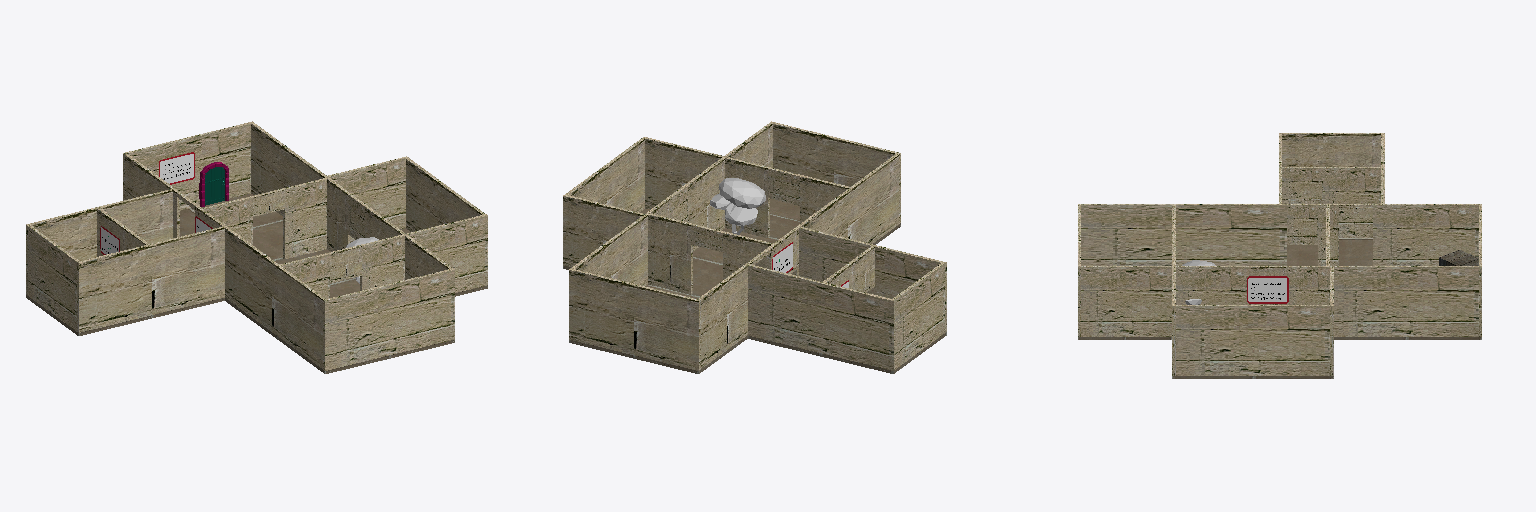
3 views of the same model, side by side, from view 1: azimuth 30°, elevation 25°; view 2: azimuth 150°, elevation 25°; view 3: azimuth 270°, elevation 25° (orthographic).
Visible parts, largest first — view 1: Cube.013, Cube.004, Cube.011, Cube.012, Cube.003, Cube.014, Cube.006, Cube.020, Cube.009, Cube.005, Cube.008, Cube.018 (+16 smaller); view 2: Cube.012, Cube.003, Cube.004, Cube.011, Cube.013, Cube.014, Cube.010, Cube.005, Cube.020, Cube.009, Cube.006, Cube.008 (+14 smaller); view 3: Cube.011, Cube.009, Cube.008, Cube.007, Cube.010, Cube.014, Cube.022, Cube.016, Cube.015, Cube.001, Cube.025, Cube.026 (+2 smaller).
Boxes of the visible parts, x1,y1,x2,y2 form: Cube.013: [77, 226, 224, 332]; Cube.004: [323, 268, 454, 370]; Cube.011: [221, 224, 325, 368]; Cube.012: [26, 189, 172, 295]; Cube.003: [123, 121, 253, 210]; Cube.014: [28, 225, 78, 330]; Cube.006: [407, 214, 487, 292]; Cube.020: [283, 178, 326, 258]; Cube.009: [406, 158, 484, 231]; Cube.005: [328, 156, 408, 240]; Cube.008: [251, 123, 327, 215]; Cube.018: [360, 234, 404, 290]; Cube.012: [748, 264, 894, 370]; Cube.003: [569, 268, 700, 370]; Cube.004: [770, 121, 900, 223]; Cube.011: [793, 154, 898, 275]; Cube.013: [799, 227, 946, 332]; Cube.014: [893, 263, 944, 369]; Cube.010: [698, 261, 752, 368]; Cube.005: [563, 194, 643, 267]; Cube.020: [648, 213, 692, 294]; Cube.009: [566, 138, 644, 212]; Cube.006: [643, 137, 722, 209]; Cube.008: [572, 214, 647, 285]; Cube.011: [1081, 204, 1286, 265]; Cube.009: [1176, 305, 1329, 375]; Cube.008: [1330, 266, 1478, 336]; Cube.007: [1081, 266, 1175, 336]; Cube.010: [1373, 204, 1478, 265]; Cube.014: [1282, 133, 1380, 166]; Cube.022: [1323, 167, 1380, 237]; Cube.016: [1176, 266, 1250, 304]; Cube.015: [1286, 266, 1329, 304]; Cube.001: [1287, 238, 1372, 265]; Cube.025: [1282, 167, 1322, 203]; Cube.026: [1287, 204, 1317, 244].
Bounding box in the file's own units: 37.6 × 7.39 × 37.05.
Materials: 10 (8 with a texture image).